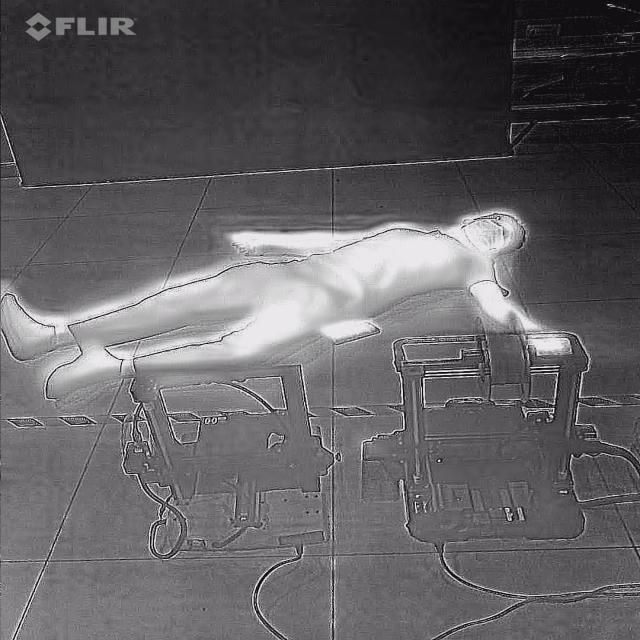Victim: (0, 204, 581, 405)
